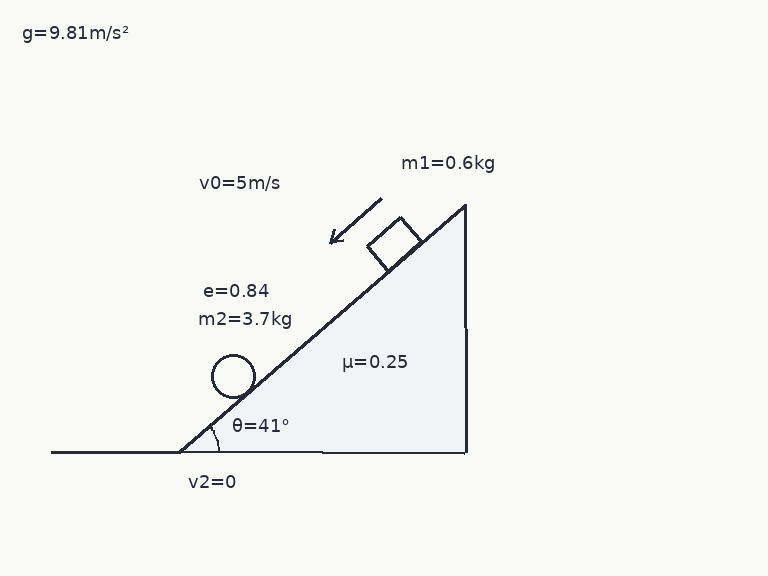ball: (209, 352, 257, 400)
block: (365, 215, 423, 272)
ramp: (177, 202, 466, 454)
